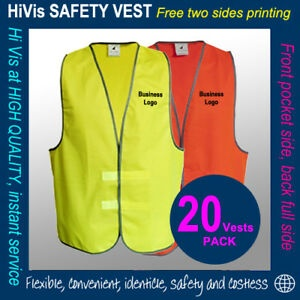safety vest: (49, 43, 180, 251), (149, 36, 250, 253)
